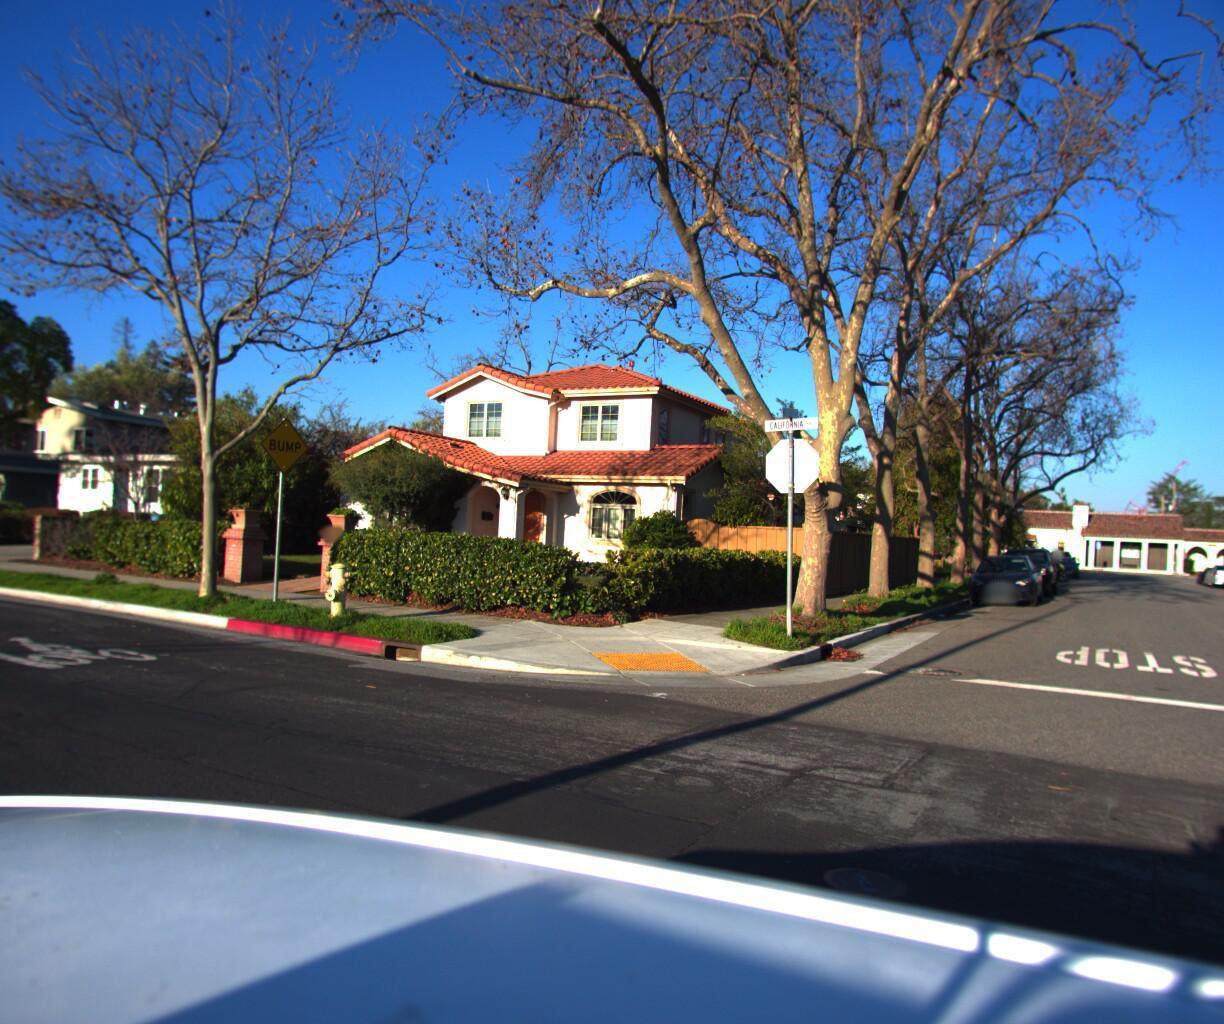car: (960, 546, 1052, 604), (990, 536, 1064, 594), (1213, 539, 1224, 612), (1047, 551, 1081, 573), (1204, 555, 1224, 584), (1045, 542, 1072, 563)
motorcycle: (1027, 551, 1072, 576)
